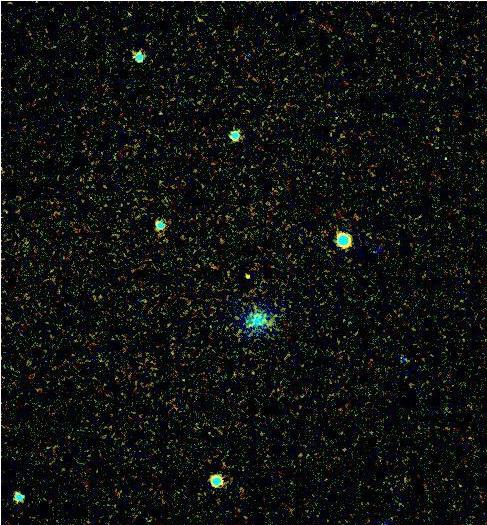star: (233, 260, 263, 290)
